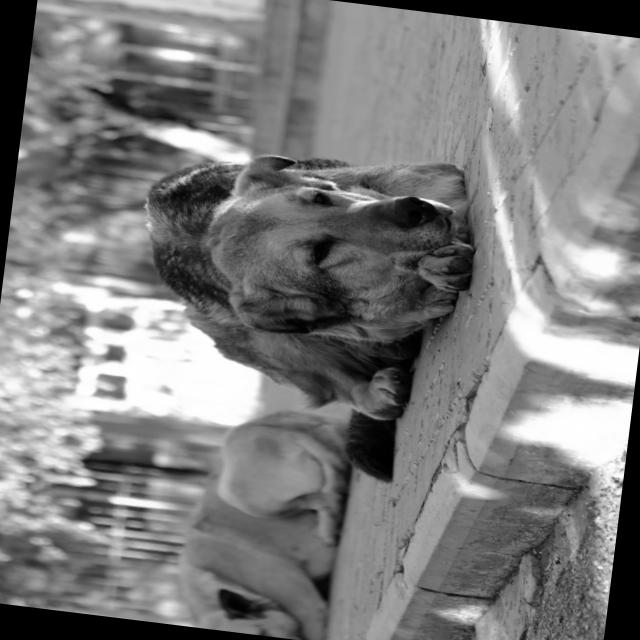laying down: (111, 119, 491, 484), (164, 394, 370, 640)
